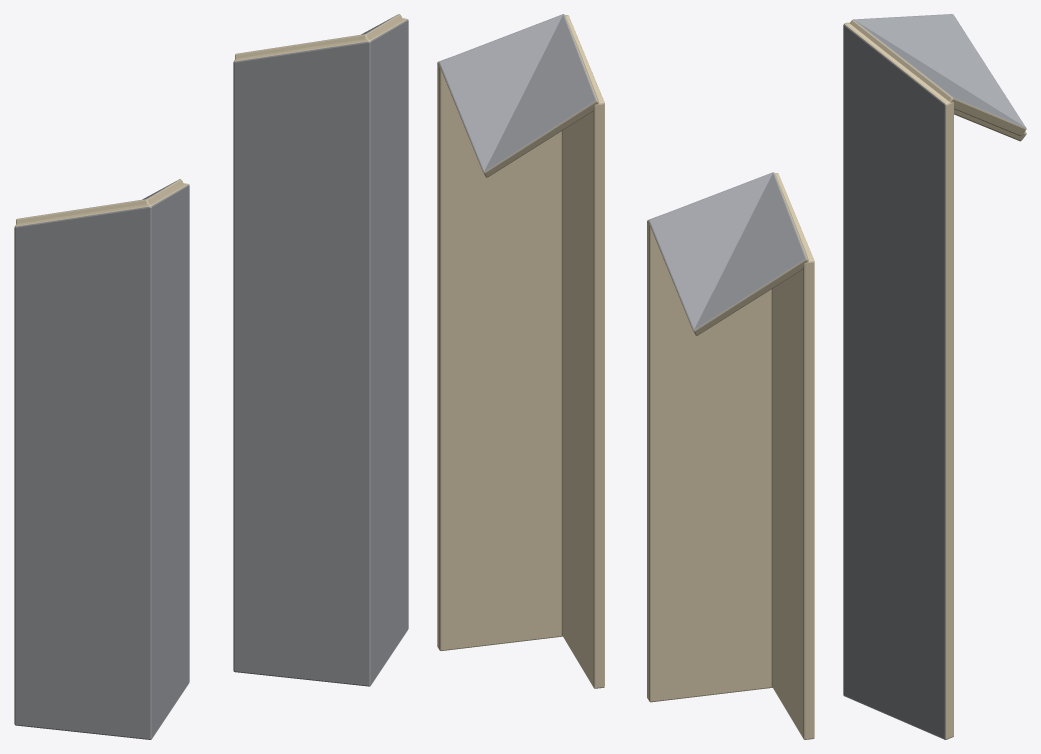
File: level-silver.glb
3 views of the same model, side by side, from view 1: azimuth 30°, elevation 25°; view 2: azimuth 150°, elevation 25°; view 3: azimuth 270°, elevation 25° (orthographic). The views are drawn at different scales.
Visible parts, largest first — view 1: level-silver; view 2: level-silver; view 3: level-silver.
Boxes of the visible parts, <box> form: level-silver: <box>14,14,408,739</box>; level-silver: <box>437,14,814,739</box>; level-silver: <box>843,14,1026,739</box>.
Bounding box in the file's own units: 0.7014 × 1.11 × 0.2715.
